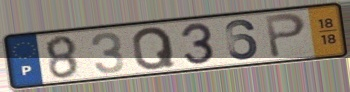3: (179, 20, 216, 67), (90, 31, 126, 75)
6: (224, 18, 261, 61)
8: (44, 35, 81, 81)
P: (263, 11, 309, 60)
Q: (131, 25, 178, 72)
